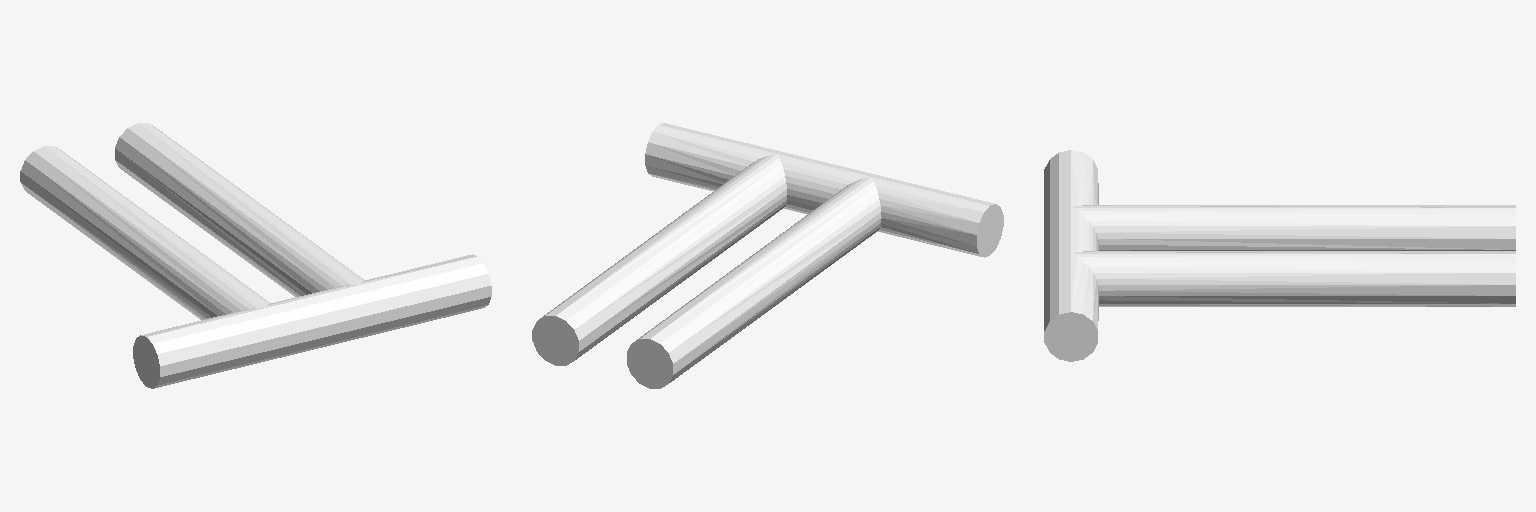
URDF robot description (support):
<robot
  name="support">
  <link
    name="support">
    <inertial>
      <origin
        xyz="0 0 0"
        rpy="0 0 0" />
      <mass
        value="0.77557" />
      <inertia
        ixx="0.00707171497289798"
        ixy="-6.86035607612738E-09"
        ixz="-2.13689589308639E-19"
        iyy="0.00893208939876082"
        iyz="1.49851650001741E-10"
        izz="0.00198307455846823" />
    </inertial>
    <visual>
      <origin
        xyz="1.5707963267949 0 0"
        rpy="0 0 0" />
      <geometry>
        <mesh
          filename="package://qfy_dynamixel_description/support/meshes/support.stl" />
      </geometry>
      <material
        name="">
        <color
          rgba="1 1 1 1" />
      </material>
    </visual>
    <collision>
      <origin
        xyz="0 0 0"
        rpy="1.5707963267949 0 0" />
      <geometry>
        <mesh
          filename="package://qfy_dynamixel_description/support/meshes/support.stl" />
      </geometry>
    </collision>
  </link>
</robot>

--- Facts derived from the render (not from the file) ---
Views: 3 orthographic renders of the robot side by side, from view 1: azimuth 30°, elevation 25°; view 2: azimuth 150°, elevation 25°; view 3: azimuth 270°, elevation 25°.
Model support with 1 links and 0 joints (none), rooted at support, posed all joints at 0.
Visible links, largest first — view 1: support; view 2: support; view 3: support.
Link boxes in pixels (bbox=[...]): support: bbox=[20, 123, 491, 388]; support: bbox=[532, 123, 1003, 388]; support: bbox=[1044, 150, 1515, 361].
Bounding box of the posed robot: 0.2463 × 0.3023 × 0.0354 m (x, y, z).
Meshes: 1 distinct files referenced, 1 mesh visuals loaded (1 binary STL).